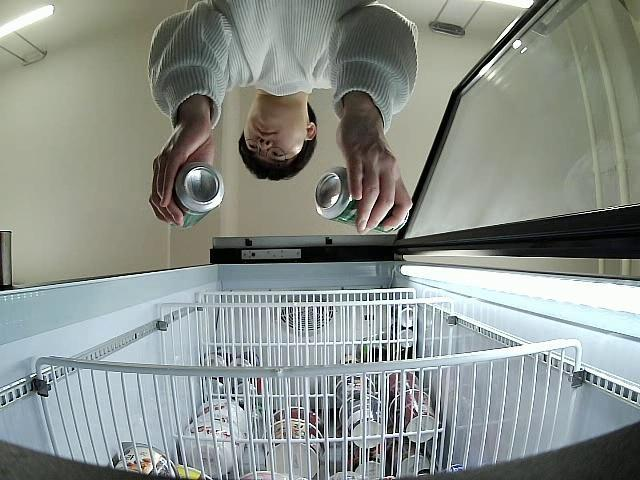12_chilsungCider: (315, 167, 409, 234), (168, 162, 224, 230)
